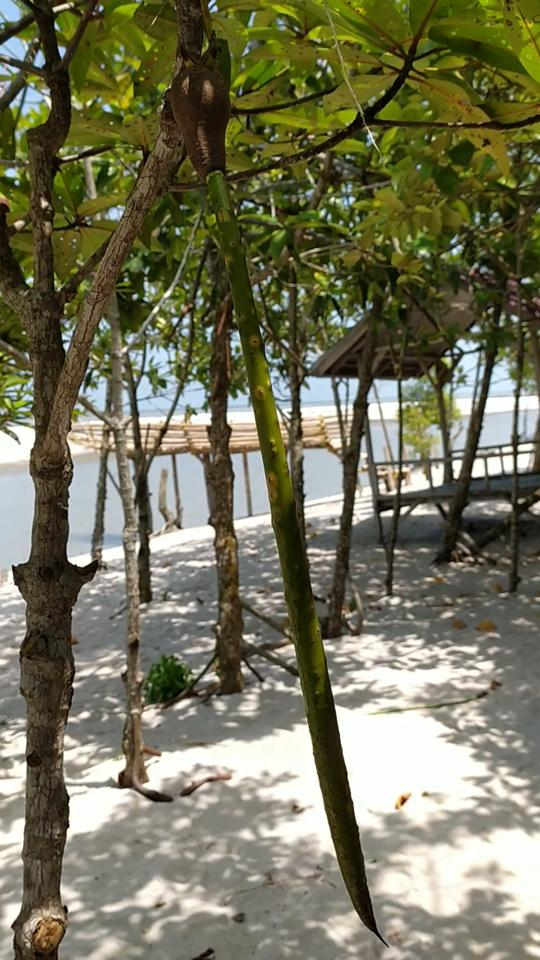setengah matang: (152, 43, 404, 948)
